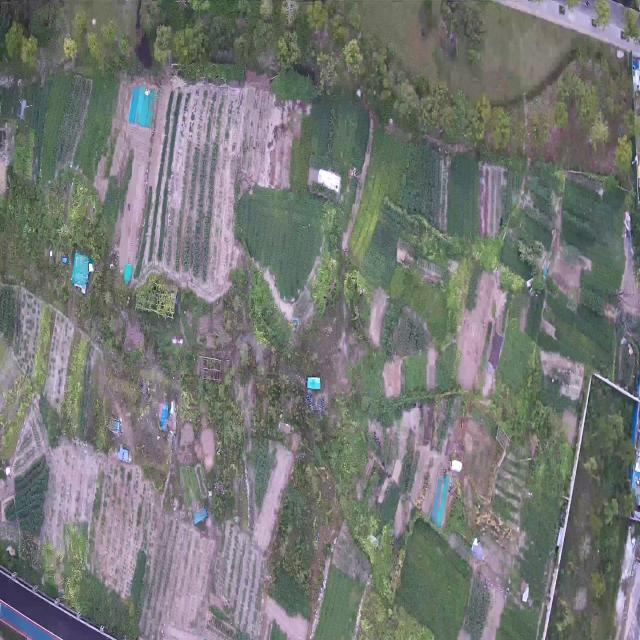UAV: (14, 97, 34, 127)
